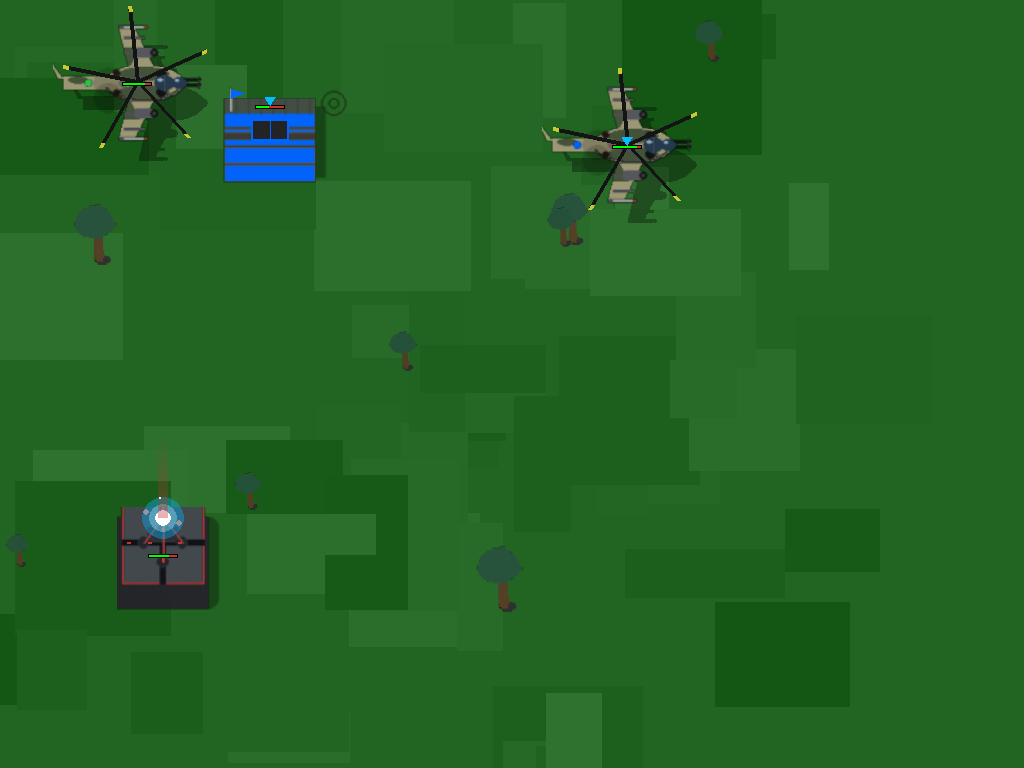APC_rus: (213, 48, 325, 160)
Barracks: (586, 102, 668, 184), (96, 40, 178, 122)
Lake: (111, 502, 213, 604)
